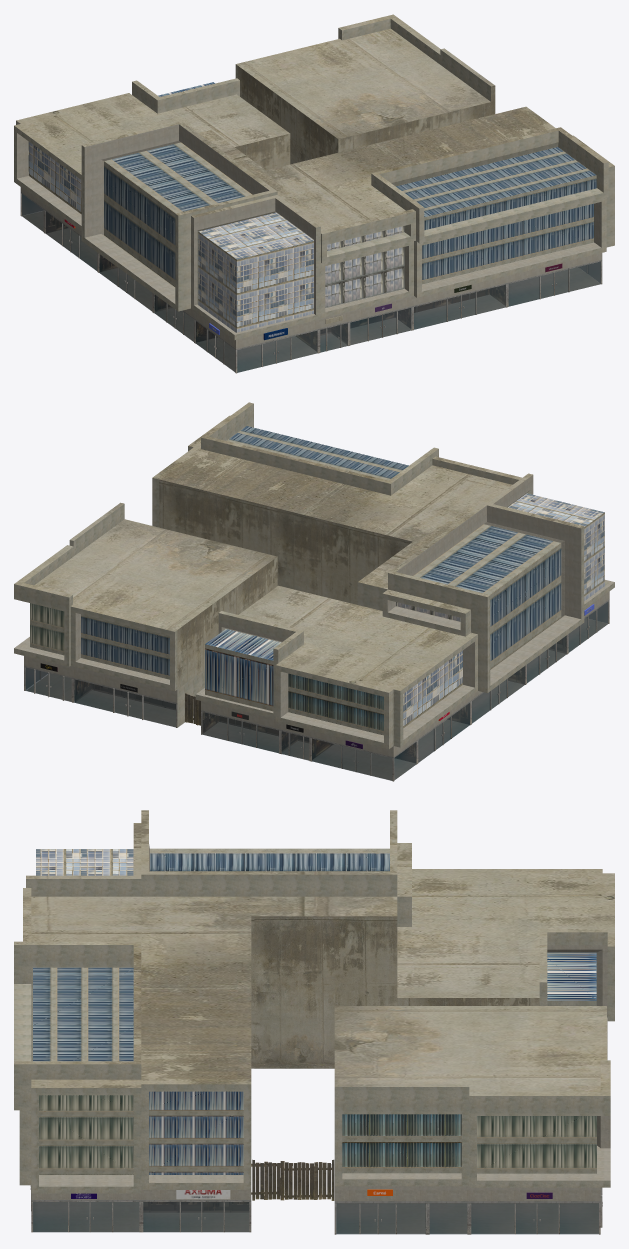
Rendered from stores1.FBX.
The picture shows the model from 3 angles, top to bottom: view 1: azimuth 30°, elevation 25°; view 2: azimuth 150°, elevation 25°; view 3: azimuth 270°, elevation 25°; orthographic projection. The views are drawn at different scales.
Visible parts, largest first — view 1: Box024; view 2: Box024; view 3: Box024.
Boxes of the visible parts, left/top/right/bottom form: Box024: left=14, top=14, right=614, bottom=373; Box024: left=14, top=402, right=614, bottom=781; Box024: left=14, top=810, right=614, bottom=1234.
Bounding box in the file's own units: 479 × 152 × 476.
